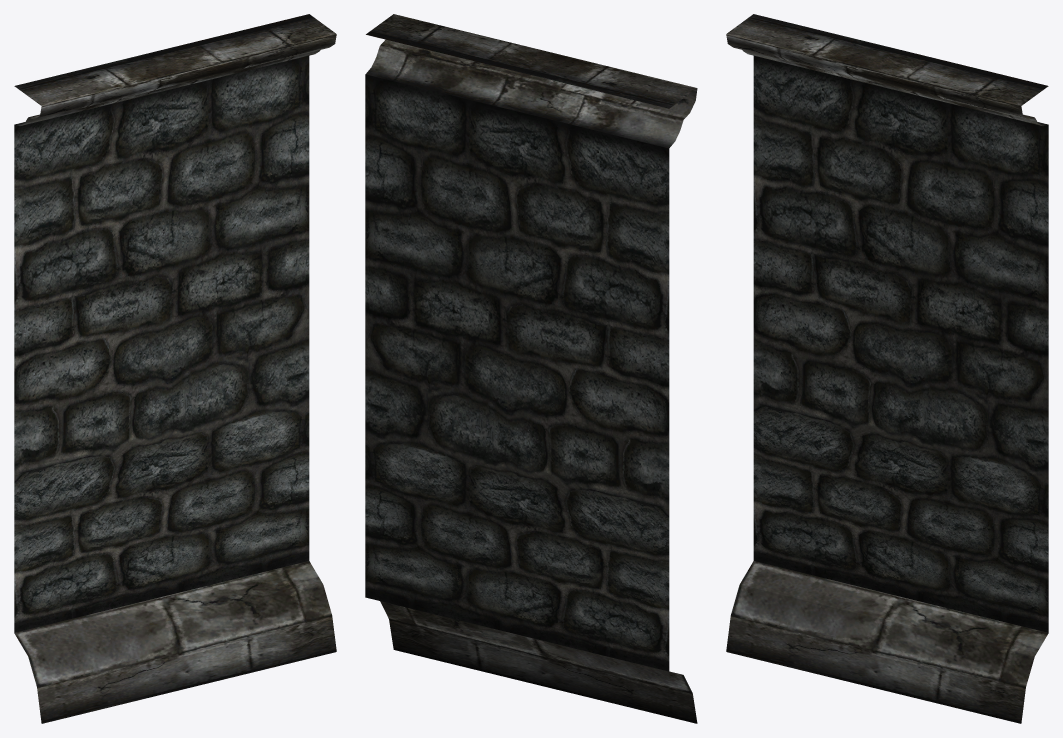
Rendered from default_extension_short.dae.
3 views of the same model, side by side, from view 1: azimuth 30°, elevation 25°; view 2: azimuth 150°, elevation 25°; view 3: azimuth 330°, elevation 25° (orthographic). The views are drawn at different scales.
Parts seen in each view (by area): view 1: polySurface112; view 2: polySurface112; view 3: polySurface112.
Part boxes in pixels (x1,y1,x2,y2): polySurface112: (14,14,336,723); polySurface112: (365,14,697,723); polySurface112: (726,14,1048,723).
Size of what is drawn, in the model's own units: 2 by 4 by 0.3219.
